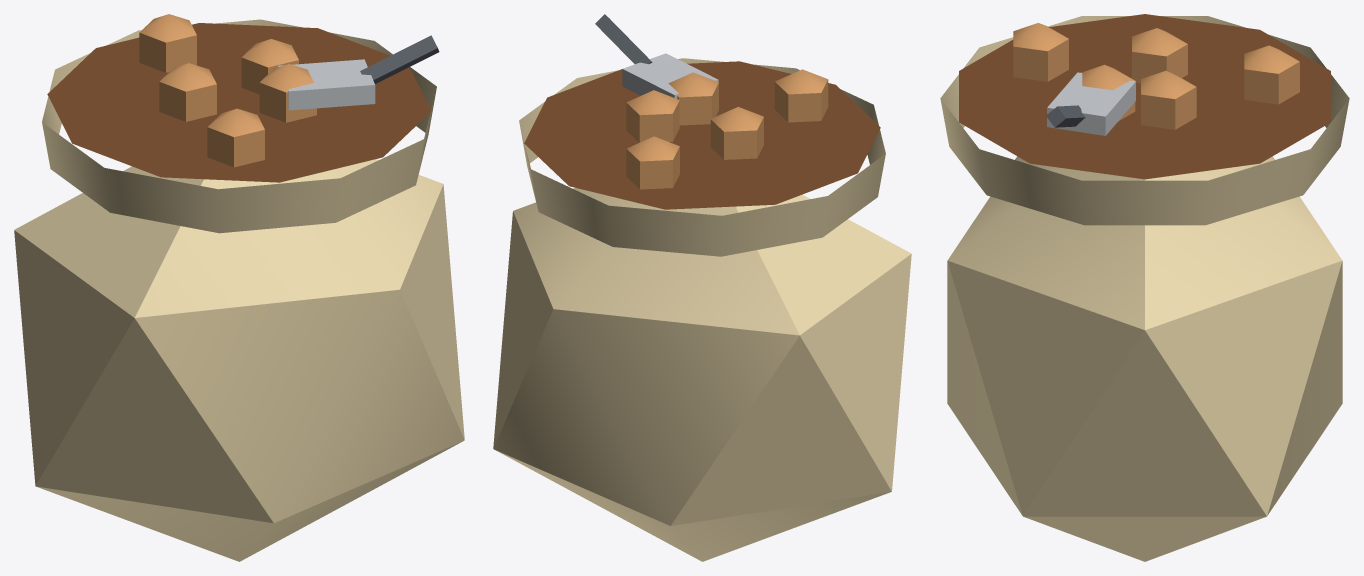
File: prop_chole_sack.glb
The picture shows the model from 3 angles, left to right: view 1: azimuth 30°, elevation 25°; view 2: azimuth 150°, elevation 25°; view 3: azimuth 270°, elevation 25°; orthographic projection. The views are drawn at different scales.
Parts seen in each view (by area): view 1: prop_chole_sack; view 2: prop_chole_sack; view 3: prop_chole_sack.
Boxes of the visible parts, x1,y1,x2,y2 form: prop_chole_sack: [14, 14, 464, 561]; prop_chole_sack: [493, 14, 911, 561]; prop_chole_sack: [940, 14, 1349, 561].
Bounding box in the file's own units: 0.2683 × 0.328 × 0.23.
1 material, 1 textured.
